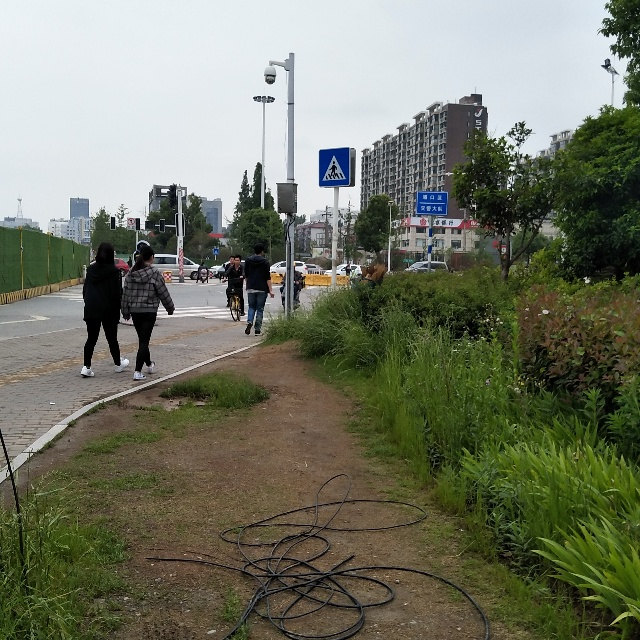crosswalk: (320, 151, 353, 187)
